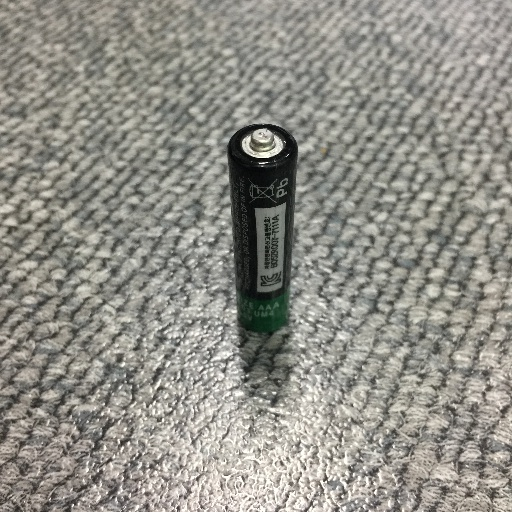Battery_0: (225, 119, 299, 339)
